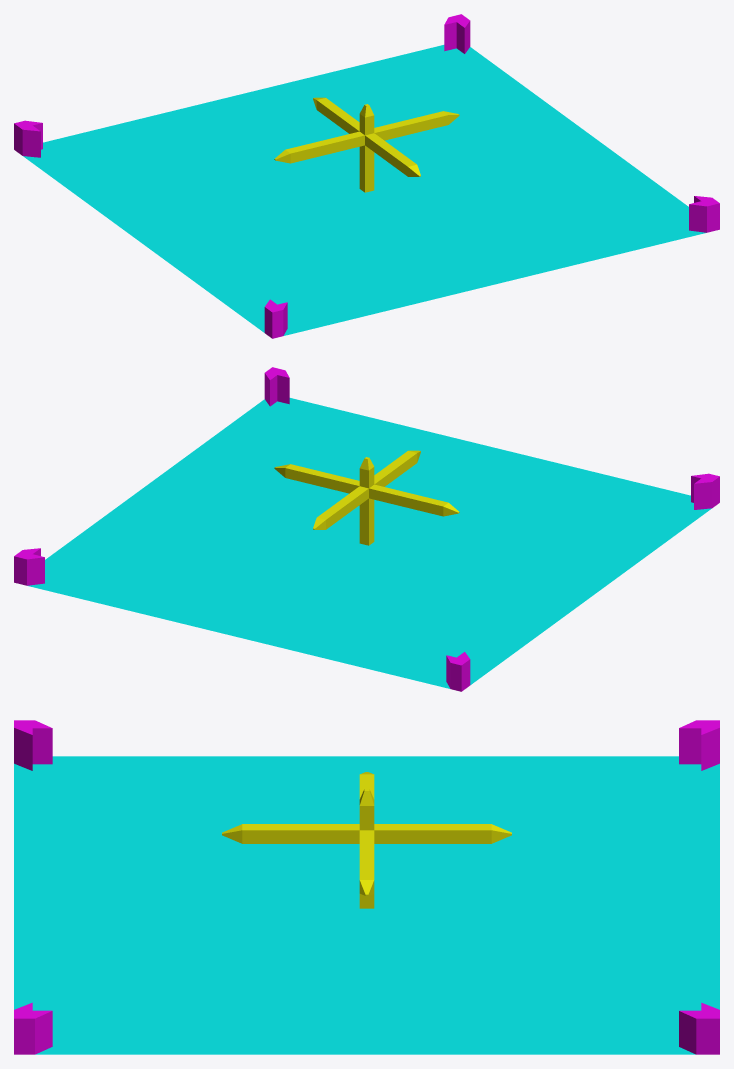
File: calibration_test_object_coloredCMYK (1).fbx
The picture shows the model from 3 angles, top to bottom: view 1: azimuth 30°, elevation 25°; view 2: azimuth 150°, elevation 25°; view 3: azimuth 270°, elevation 25°; orthographic projection. The views are drawn at different scales.
Visible parts, largest first — view 1: pPlane1; view 2: pPlane1; view 3: pPlane1.
Part boxes in pixels (x1,y1,x2,y2): pPlane1: (14, 14, 719, 338); pPlane1: (14, 367, 719, 691); pPlane1: (14, 720, 719, 1054).
Bounding box in the file's own units: 300 × 54.2 × 300.
